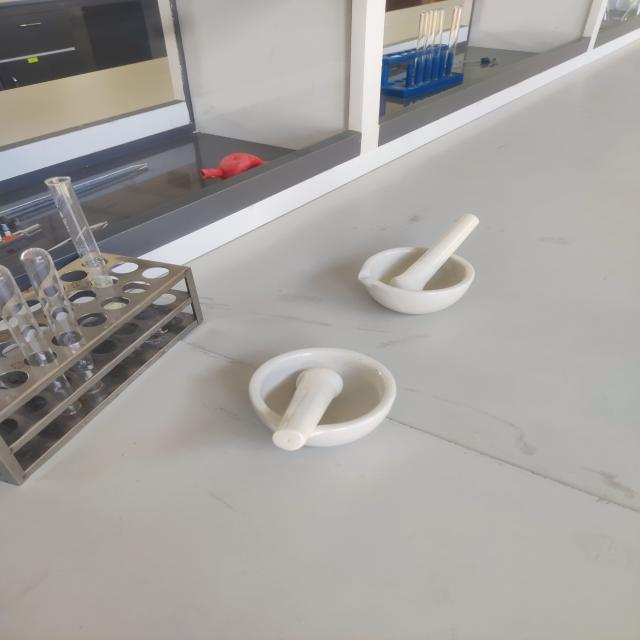Porcelain_Mortar Pestle: (194, 322, 415, 487), (355, 204, 507, 328)
